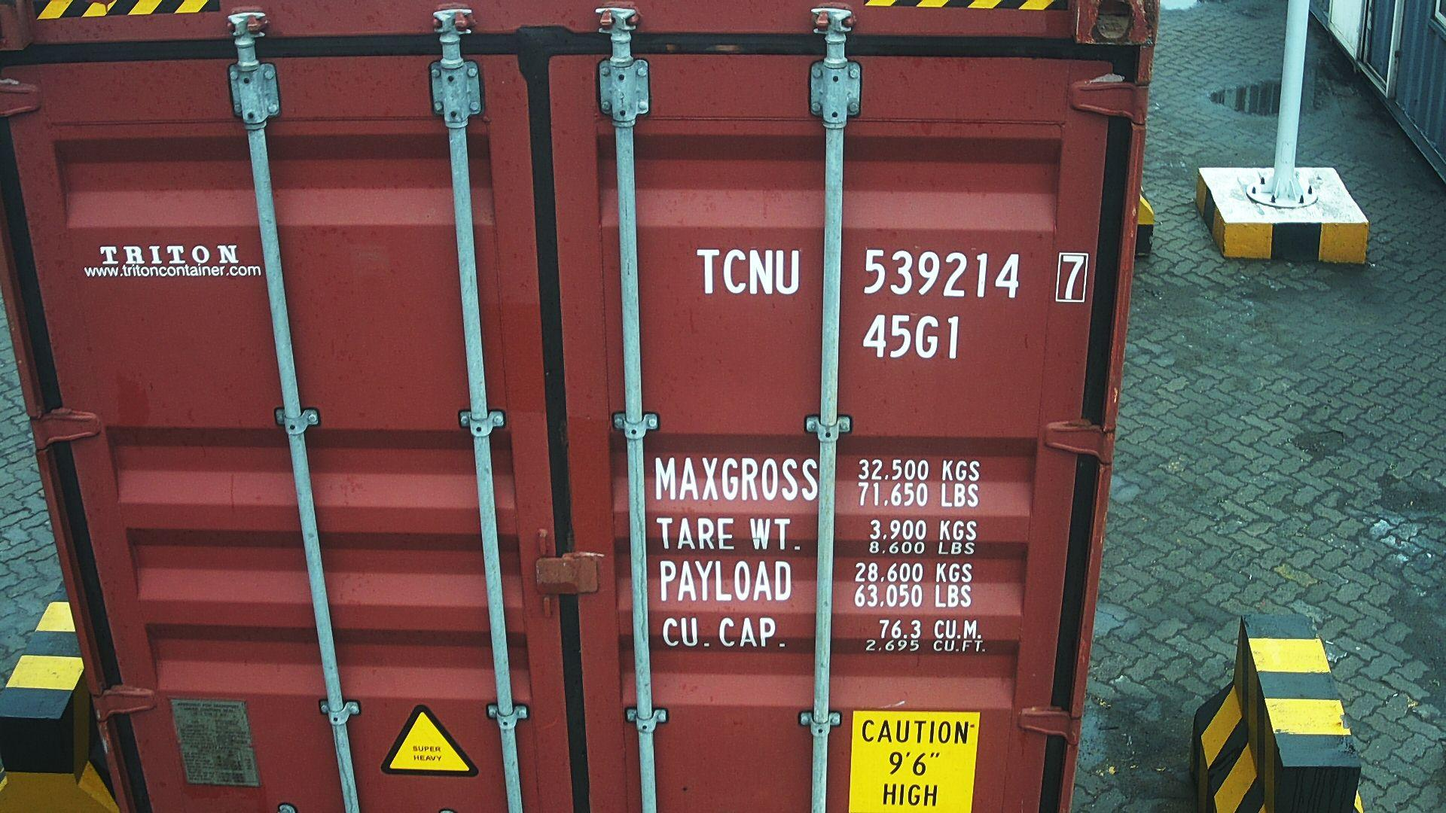container-numbers: (694, 243, 1094, 307), (859, 310, 966, 363)
